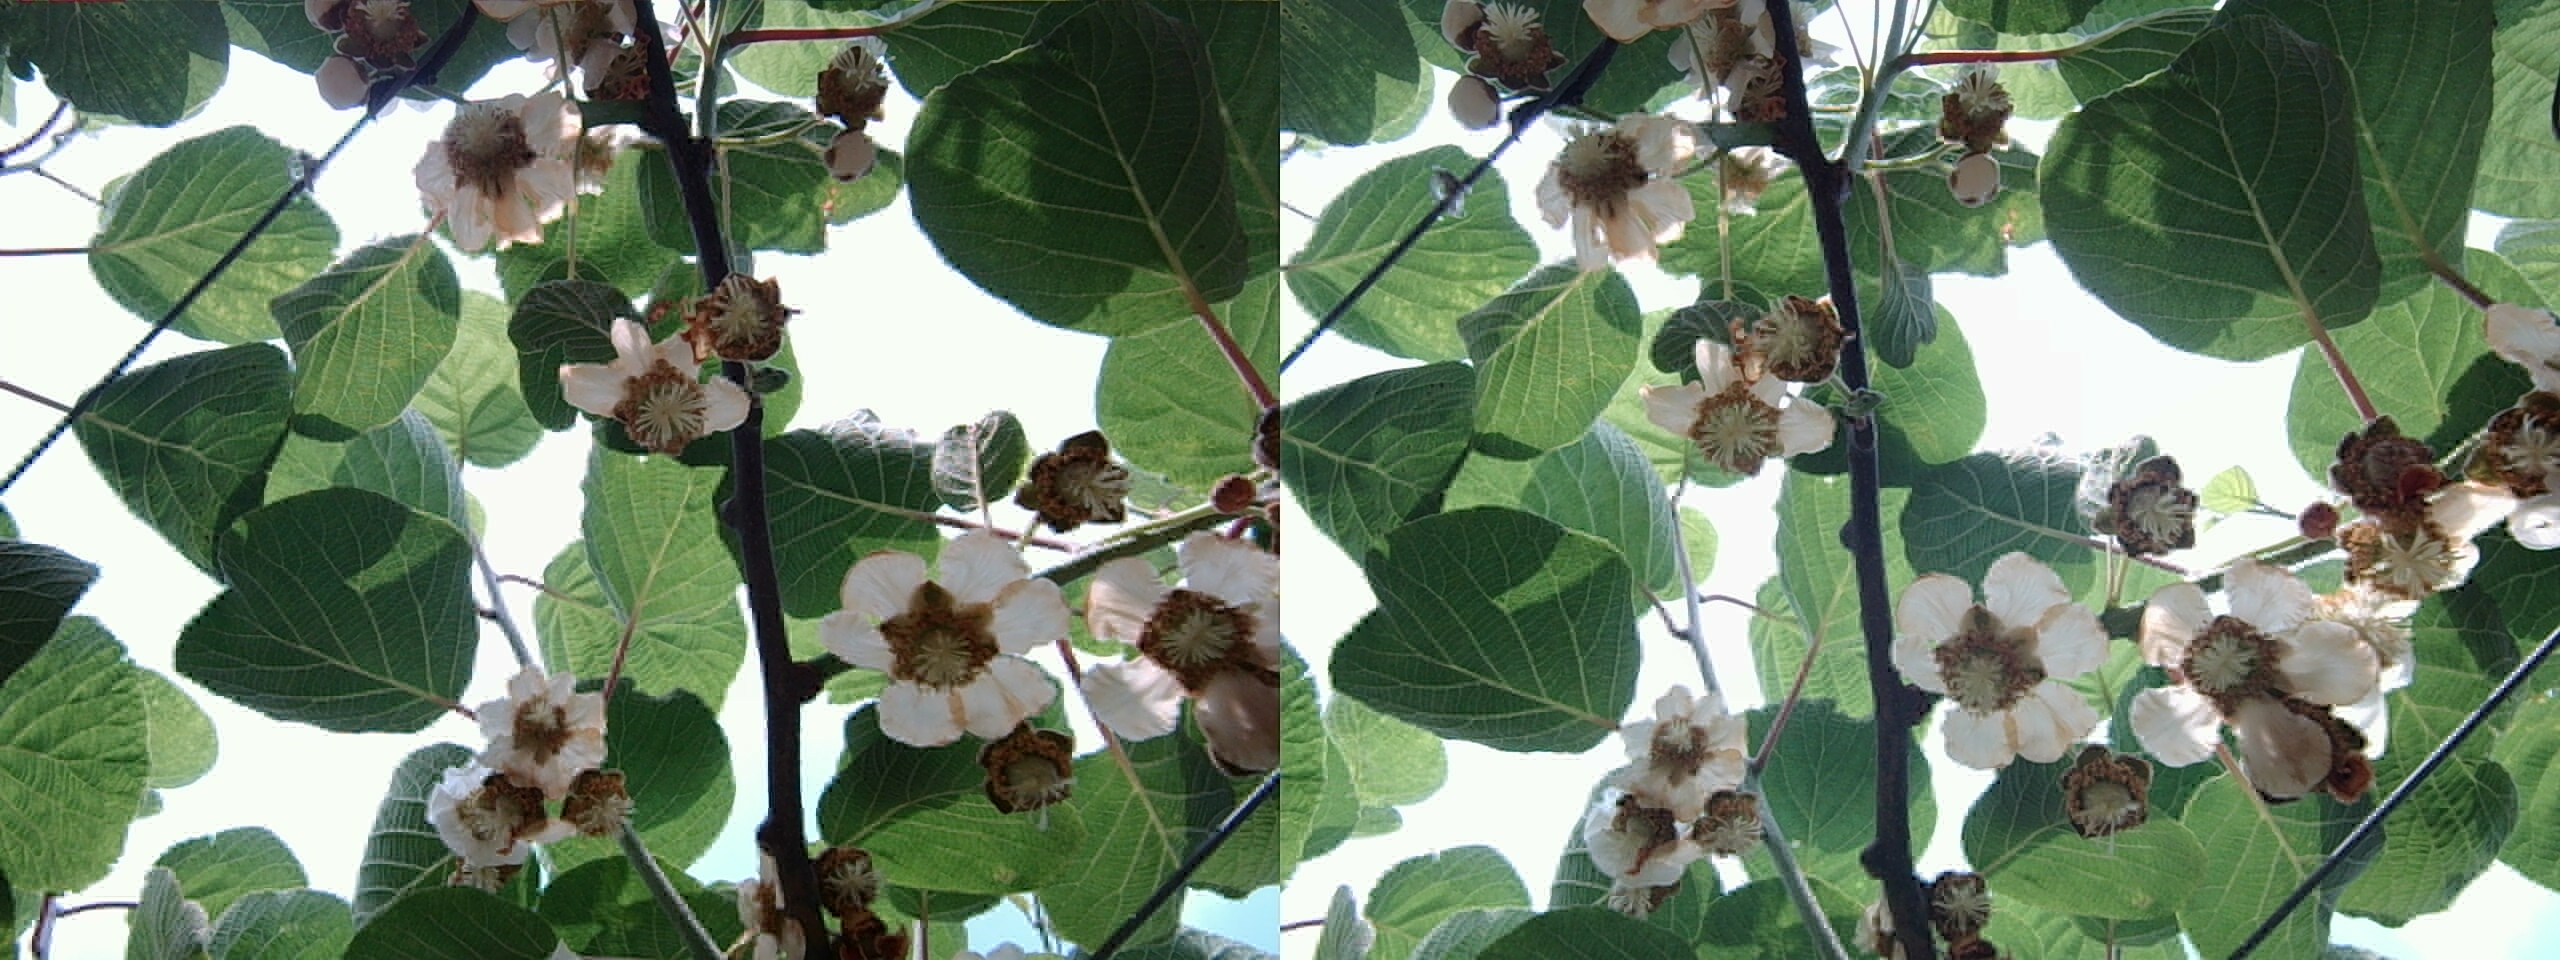flower: (820, 534, 1064, 753), (2145, 578, 2390, 795), (1882, 553, 2108, 771), (1561, 687, 1767, 901), (1633, 299, 1847, 495), (1096, 540, 1288, 749), (555, 300, 766, 456), (1518, 103, 1704, 268), (407, 85, 586, 250), (629, 273, 807, 411), (478, 664, 619, 798), (424, 754, 576, 865), (1437, 3, 1577, 85), (971, 707, 1074, 807), (2127, 681, 2216, 754)
